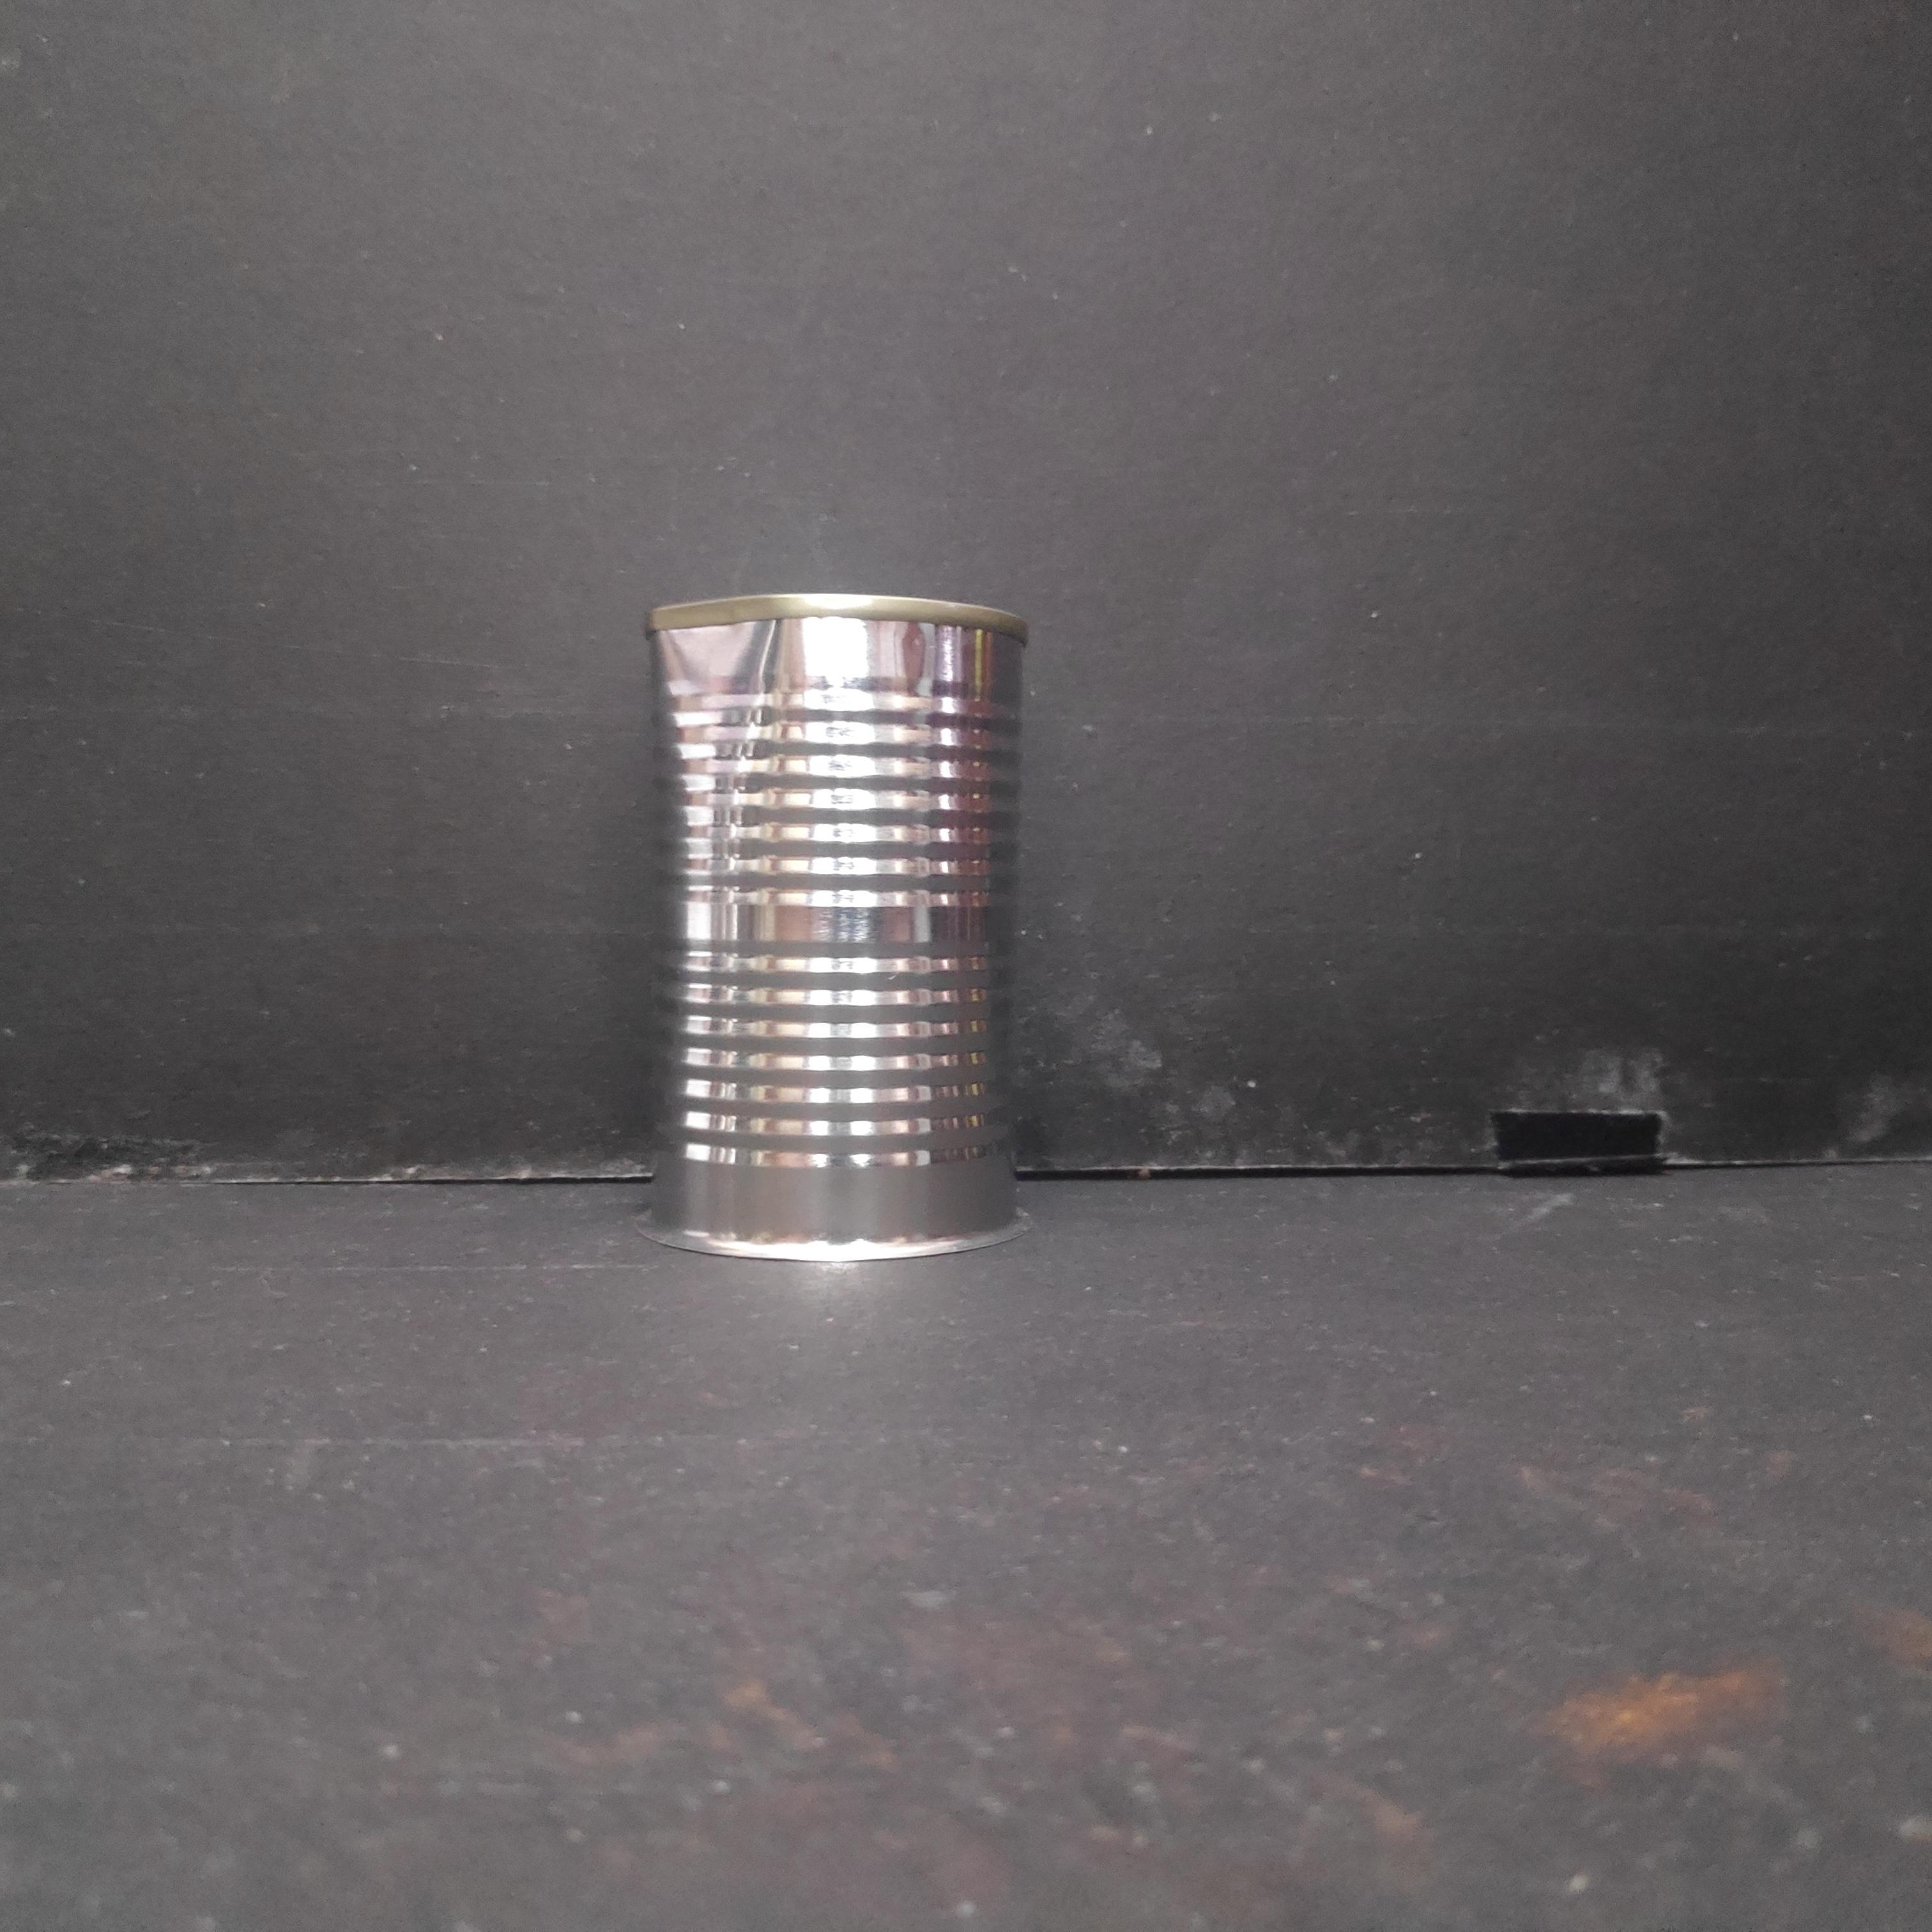Minor Defect: (637, 573, 1035, 1269)
